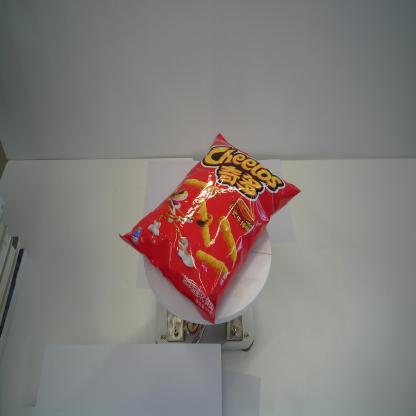Puffed Food: (117, 127, 302, 328)
